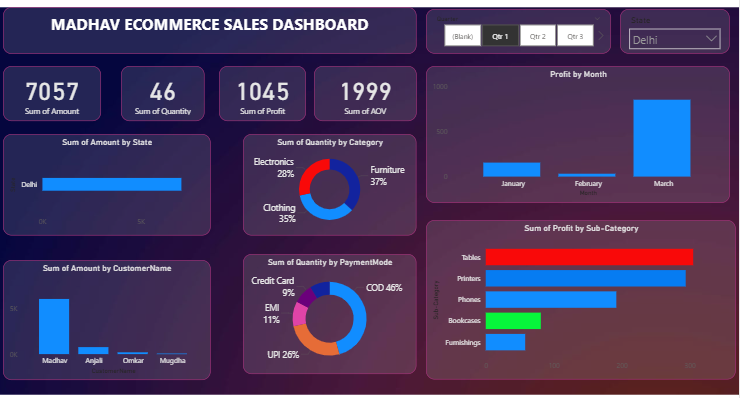

This screenshot's page, from the dashboard's own definition file:
{"tool":"powerbi","page":{"name":"FinalDasshboard","canvas":[1280,720],"ordinal":0},"visuals":[{"type":"columnChart","title":"Profit by Month","fields":{"Category":["Orders.Order Date.Variation.Date Hierarchy.Month"],"Y":["Sum(Details.Profit)"]},"box":[739.6,123.9,524.2,235.7],"z":0},{"type":"barChart","fields":{"Category":["Orders.State"],"Y":["Sum(Details.Amount)"]},"box":[10.2,241.8,357.6,174.7],"z":1000},{"type":"donutChart","fields":{"Category":["Details.PaymentMode"],"Y":["Sum(Details.Quantity)"]},"box":[424.6,449,298.7,207.2],"z":2000},{"type":"donutChart","fields":{"Category":["Details.Category"],"Y":["Sum(Details.Quantity)"]},"box":[424.6,241.8,298.7,174.7],"z":3000},{"type":"card","fields":{"Values":["Sum(Details.Amount)"]},"box":[10.2,123.9,168.6,95.5],"z":4000},{"type":"card","fields":{"Values":["Sum(Details.Quantity)"]},"box":[213.3,123.9,144.3,95.5],"z":5000},{"type":"card","fields":{"Values":["Sum(Details.Profit)"]},"box":[382,123.9,150.3,95.5],"z":6000},{"type":"card","fields":{"Values":["Sum(Details.AOV)"]},"box":[546.5,123.9,176.8,95.5],"z":7000},{"type":"barChart","fields":{"Category":["Details.Sub-Category"],"Y":["Sum(Details.Profit)"]},"box":[739.3,390.2,534.4,275.4],"z":8000},{"type":"columnChart","fields":{"Category":["Orders.CustomerName"],"Y":["Sum(Details.Amount)"]},"box":[10.2,459.2,357.6,207.2],"z":9000},{"type":"textbox","box":[10.2,22.3,713.1,81.3],"z":10000},{"type":"slicer","fields":{"Values":["Orders.Order Date.Variation.Date Hierarchy.Quarter"]},"box":[739.6,26.4,319,77.2],"z":11000},{"type":"slicer","fields":{"Values":["Orders.State"]},"box":[1074.8,26.4,189,77.2],"z":12000}]}

Visuals, with their boxes on the page's 1280x720 design canvas (x1, y1, x2, y2). These are canvas units, not pixel positions in the 740x398 screenshot, which may show the page scaled, cropped or inside an application window:
"Profit by Month" columnChart: bbox(740, 124, 1264, 360)
barChart - Orders.State x Sum(Details.Amount): bbox(10, 242, 368, 416)
donutChart - Details.PaymentMode x Sum(Details.Quantity): bbox(425, 449, 723, 656)
donutChart - Details.Category x Sum(Details.Quantity): bbox(425, 242, 723, 416)
card - Sum(Details.Amount): bbox(10, 124, 179, 219)
card - Sum(Details.Quantity): bbox(213, 124, 358, 219)
card - Sum(Details.Profit): bbox(382, 124, 532, 219)
card - Sum(Details.AOV): bbox(546, 124, 723, 219)
barChart - Details.Sub-Category x Sum(Details.Profit): bbox(739, 390, 1274, 666)
columnChart - Orders.CustomerName x Sum(Details.Amount): bbox(10, 459, 368, 666)
textbox: bbox(10, 22, 723, 104)
slicer - Orders.Order Date.Variation.Date Hierarchy.Quarter: bbox(740, 26, 1059, 104)
slicer - Orders.State: bbox(1075, 26, 1264, 104)
